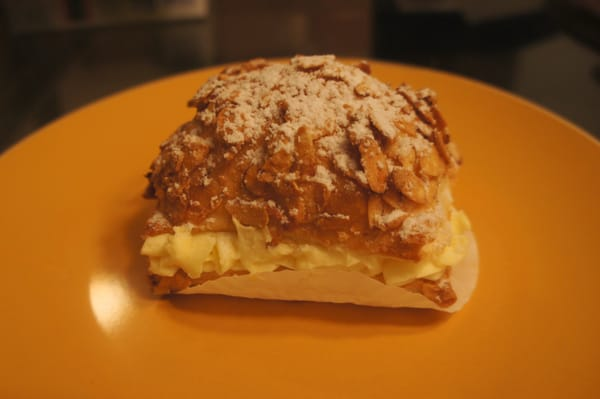soup: (139, 54, 471, 310)
